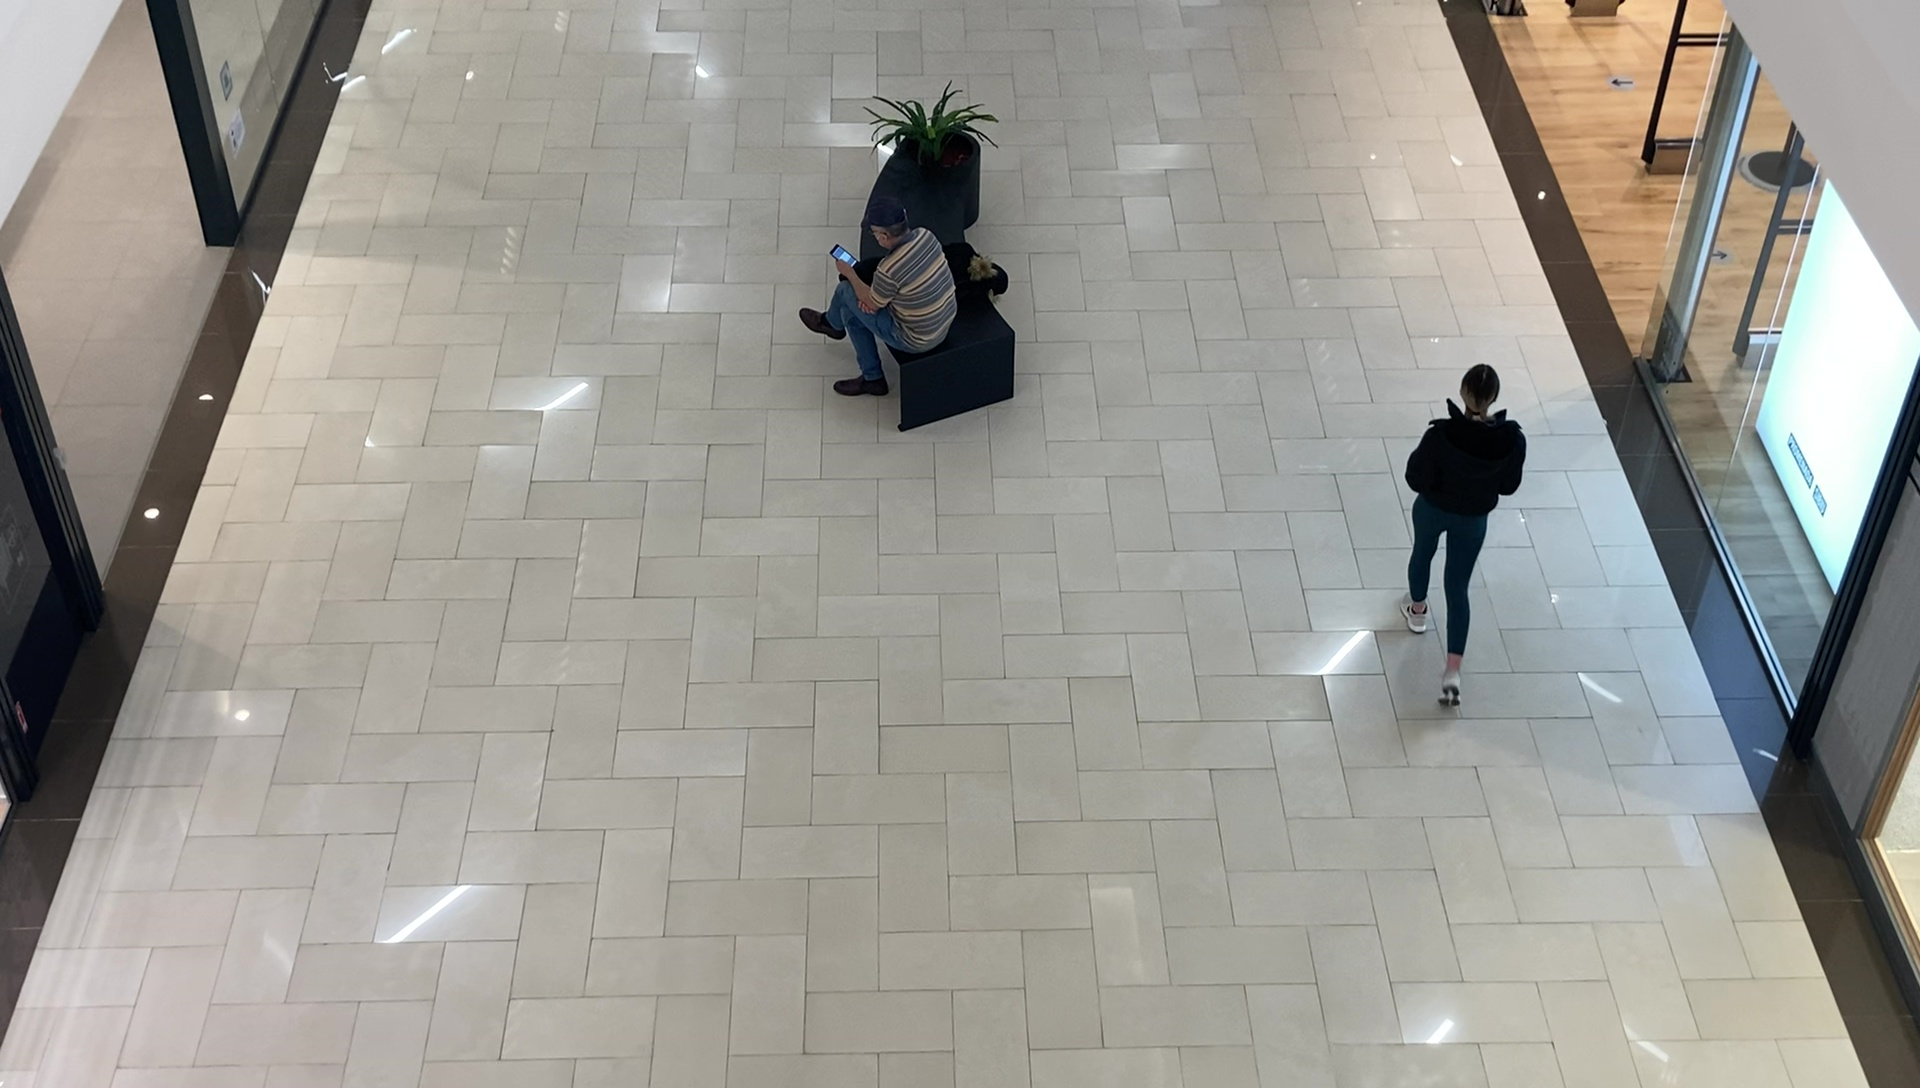person: (1405, 363, 1527, 711), (800, 196, 959, 401)
